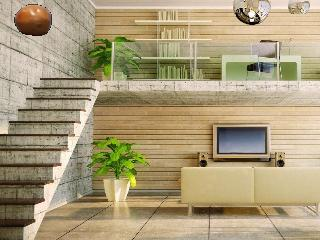potato: (12, 1, 54, 39)
